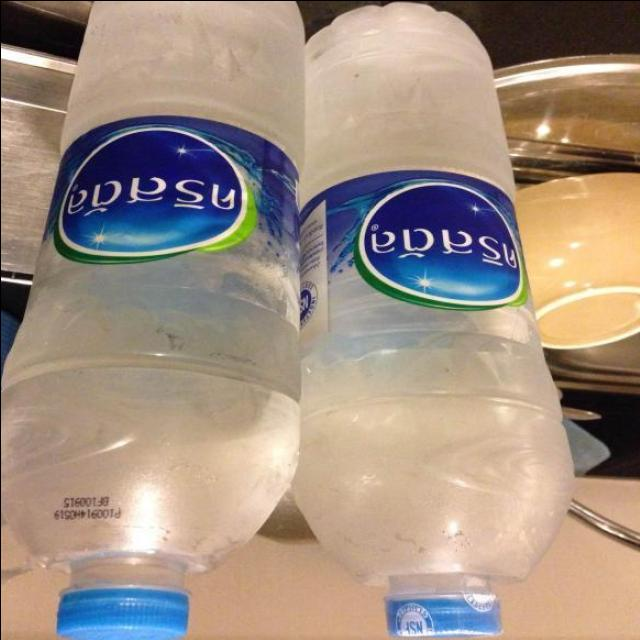plastik: (0, 0, 302, 640), (294, 2, 570, 635)
